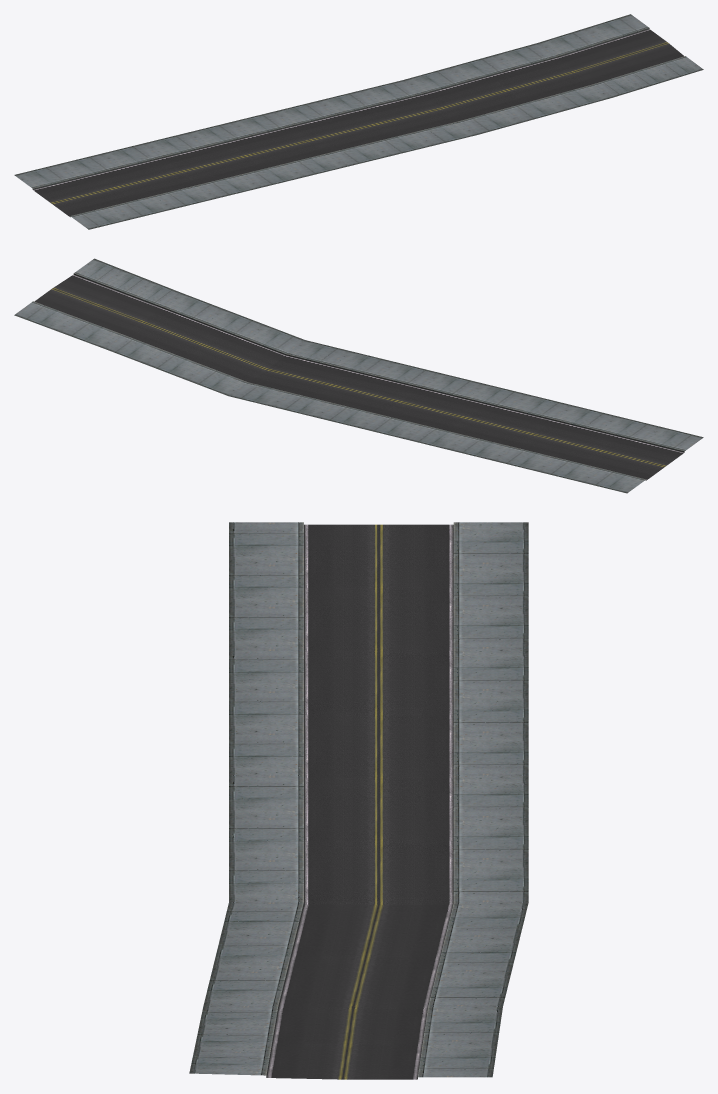
The model's file is road01_lan2.obj.
3 renders of one model, top to bottom at view 1: azimuth 30°, elevation 25°; view 2: azimuth 150°, elevation 25°; view 3: azimuth 270°, elevation 25°, orthographic. The views are drawn at different scales.
Parts seen in each view (by area): view 1: road01_LAn2; view 2: road01_LAn2; view 3: road01_LAn2.
Boxes of the visible parts, x1,y1,x2,y2 form: road01_LAn2: (14, 14, 703, 229); road01_LAn2: (14, 258, 703, 493); road01_LAn2: (189, 522, 528, 1079).
Bounding box in the file's own units: 93.67 × 3.07 × 22.65.
